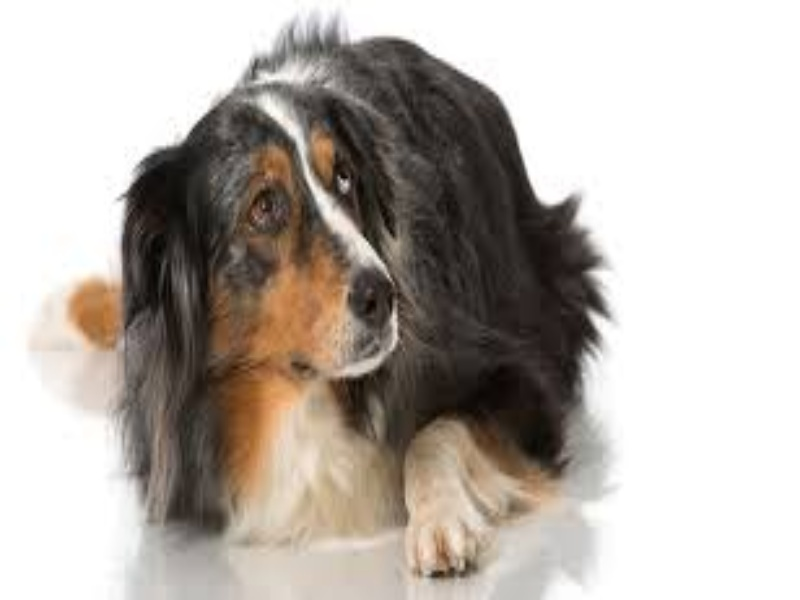dog: (42, 8, 626, 585)
